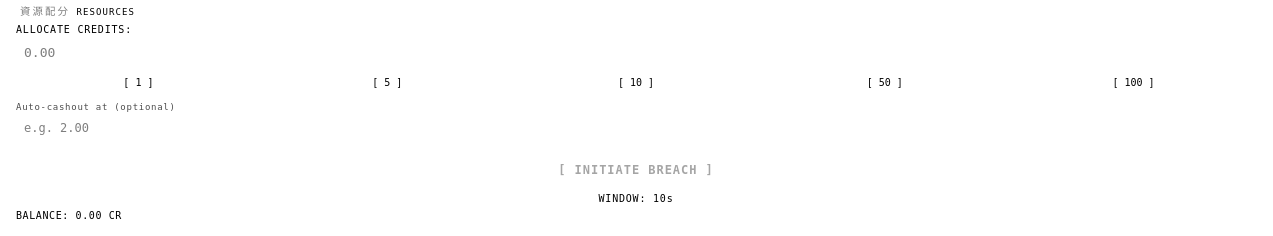
Test: BetForm component › wager preset buttons › enables submit button after clicking a preset
expect the button "[ INITIATE BREACH ]" is disabled: met, box left=16, top=153, right=1256, bottom=186
Click the button "[ 10 ]".
click(636, 83)  # box left=514, top=73, right=758, bottom=92
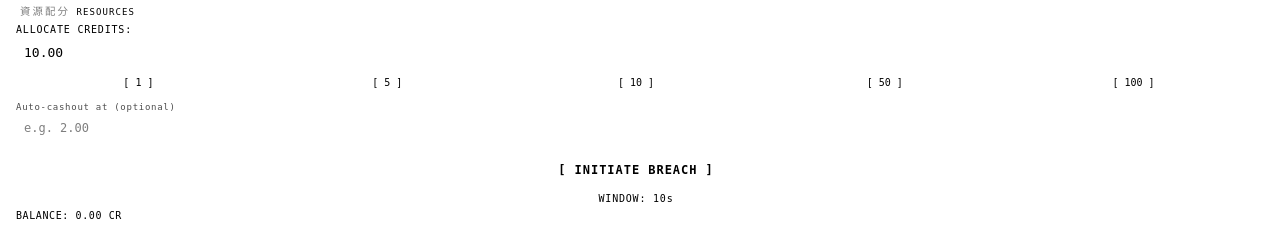
expect the button "[ INITIATE BREACH ]" is enabled: met, box left=16, top=153, right=1256, bottom=186
